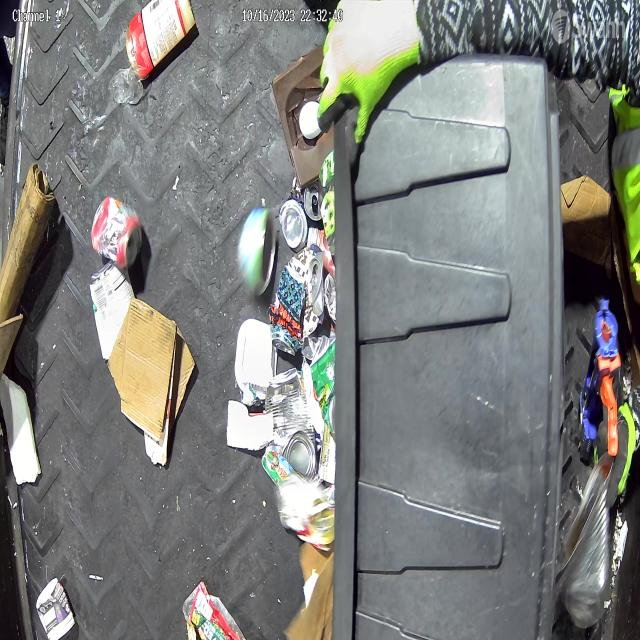can: (556, 451, 615, 629), (265, 368, 317, 481), (90, 194, 144, 271), (238, 207, 277, 297), (269, 264, 305, 356), (278, 176, 308, 252), (309, 242, 325, 323), (304, 180, 322, 220)
